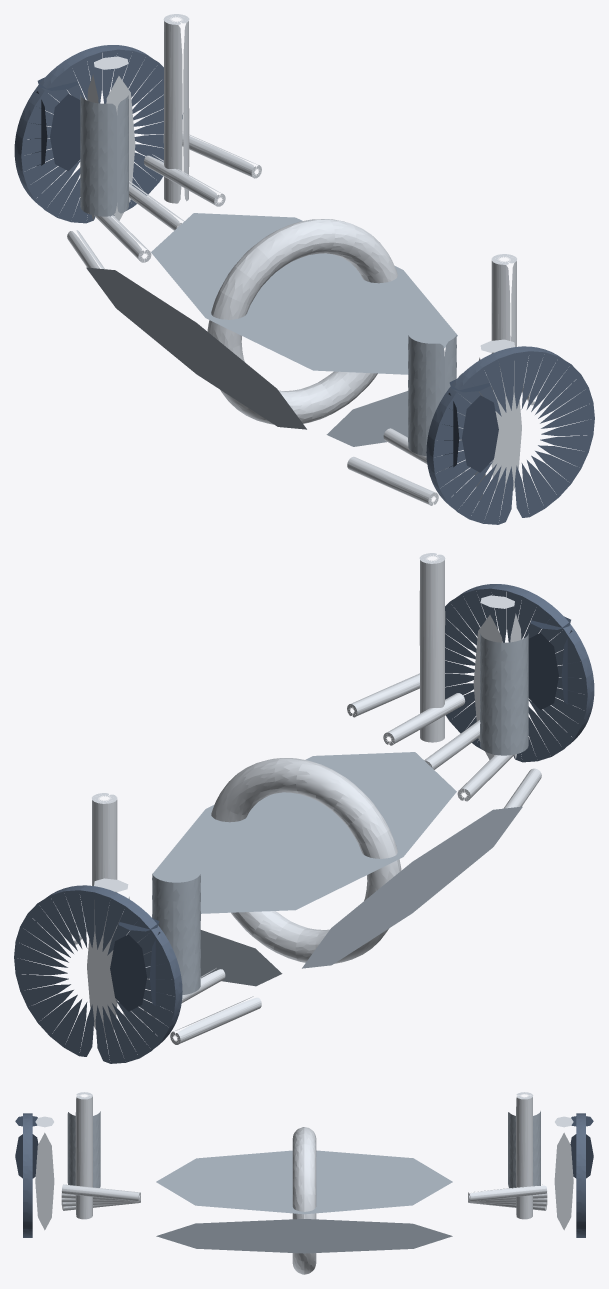
File: rear_subframe.glb
3 renders of one model, top to bottom at view 1: azimuth 30°, elevation 25°; view 2: azimuth 150°, elevation 25°; view 3: azimuth 270°, elevation 25°, orthographic. The views are drawn at different scales.
Parts seen in each view (by area): view 1: Rear_5Link_Suspension, Rear_Subframe_Carrier; view 2: Rear_5Link_Suspension, Rear_Subframe_Carrier; view 3: Rear_Subframe_Carrier, Rear_5Link_Suspension.
Part boxes in pixels (x1,y1,x2,y2): Rear_5Link_Suspension: [14, 14, 594, 524]; Rear_Subframe_Carrier: [86, 213, 491, 446]; Rear_5Link_Suspension: [14, 553, 594, 1063]; Rear_Subframe_Carrier: [117, 752, 522, 986]; Rear_Subframe_Carrier: [156, 1127, 452, 1274]; Rear_5Link_Suspension: [15, 1092, 593, 1237].
Bounding box in the file's own units: 0.48 × 0.5826 × 1.67.
